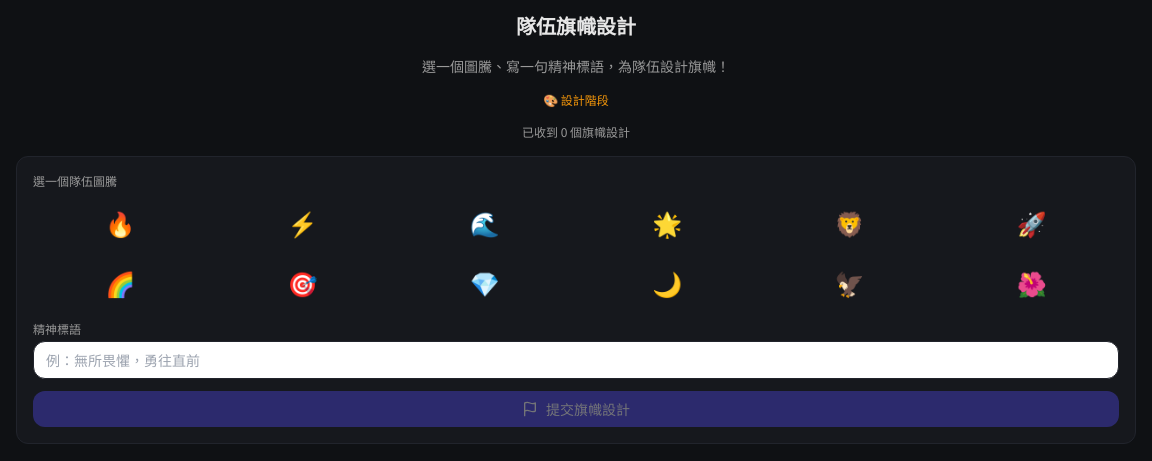
Scenario: FlagDesign › 選emoji+填標語後啟用提交按鈕
Step 1. Click the button with test id "fld-emoji-🔥" → [120, 223], box [33, 197, 207, 249]
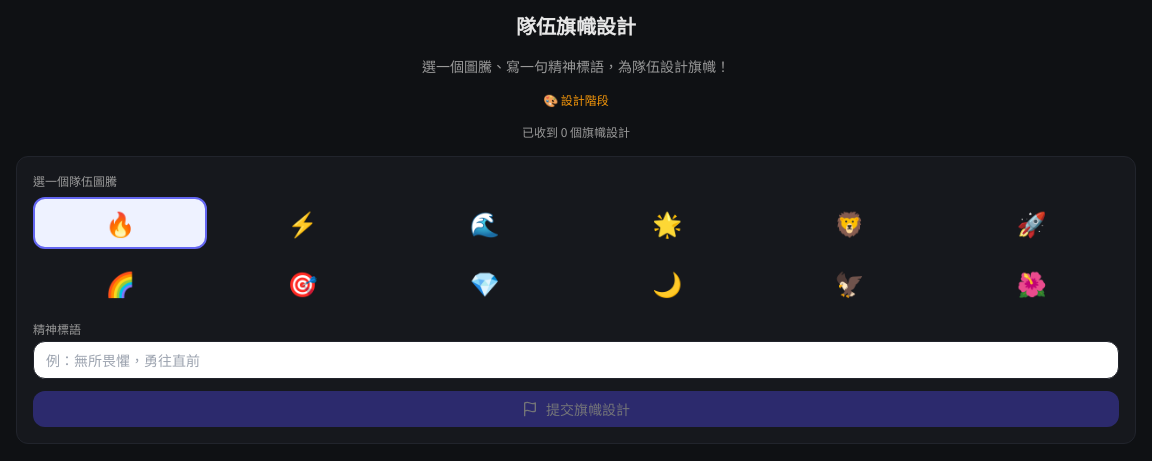
Step 2. Type "勇往直前" into the field with test id "fld-motto-input" → [576, 360], box [33, 341, 1119, 379]
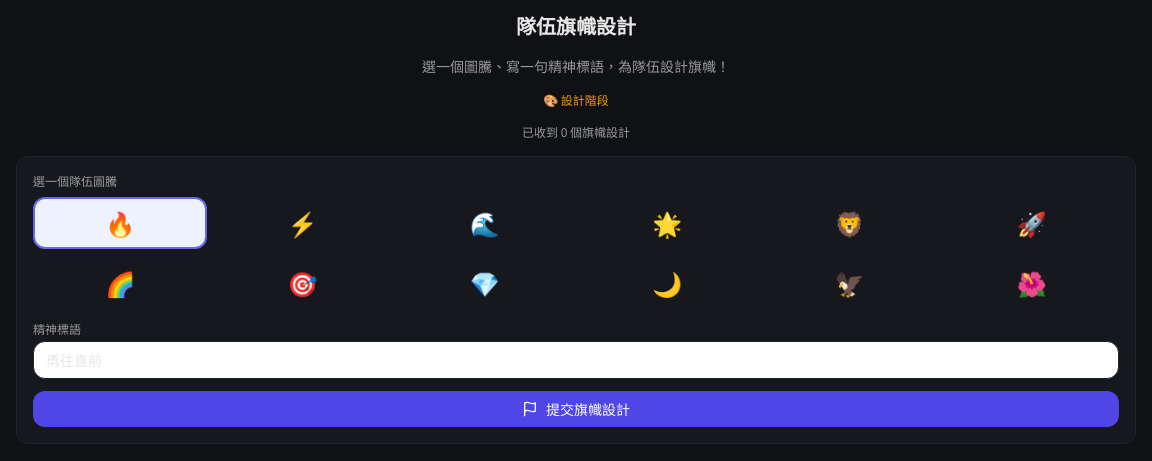
Check: the button with test id "fld-submit-btn" is enabled, box [33, 391, 1119, 427]
